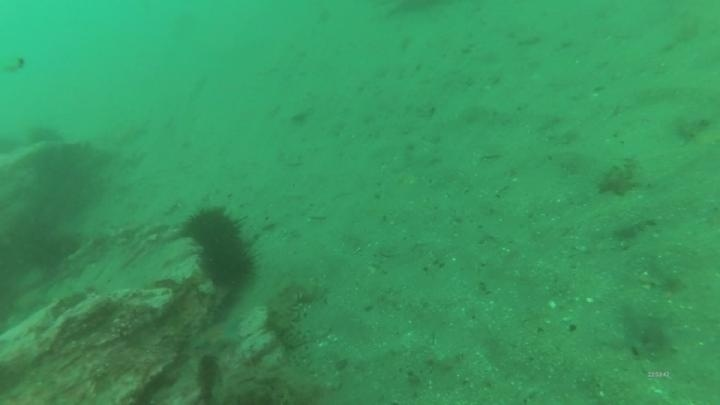echinus: (198, 238, 258, 291), (181, 202, 247, 249)
holothurian: (264, 275, 323, 351)
starfish: (190, 313, 245, 359)
